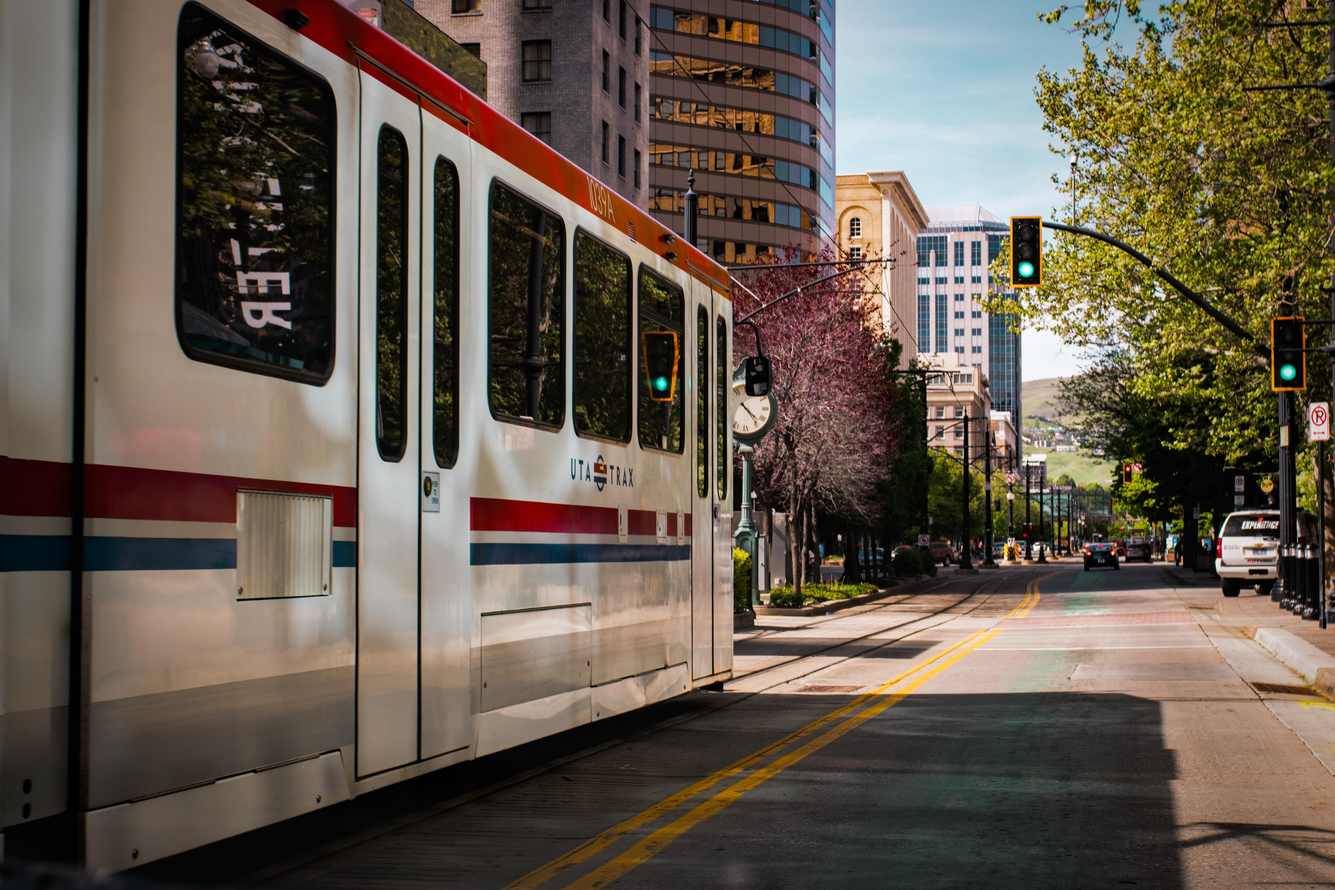Traffic light green: (1261, 299, 1312, 398)
